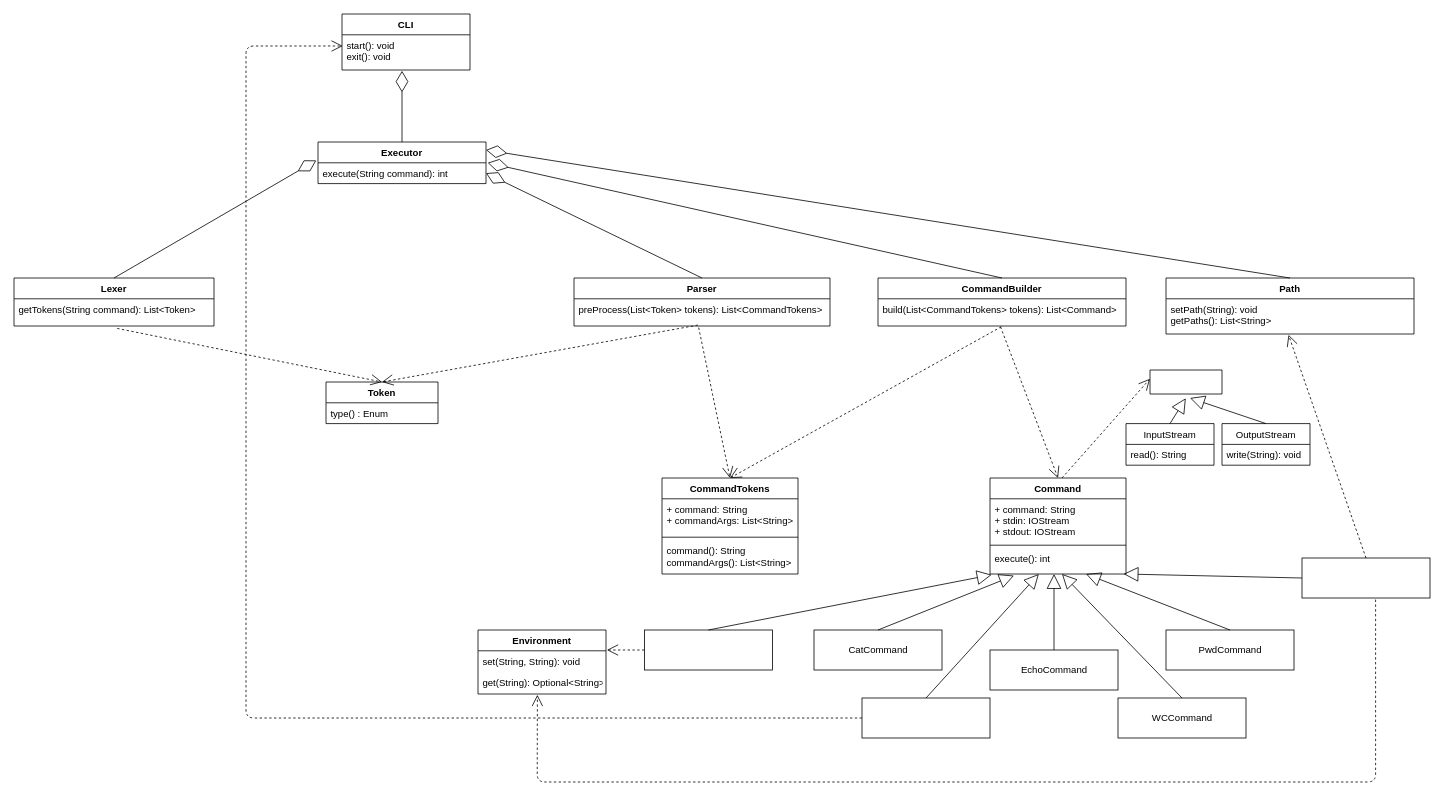
This 1444x807 diagram has some shape labels left out. The centre of each missing label's shape, as x and y in pixels:
"EnvironmentCommand" goes at point 708,649.
"ExitCommand" goes at point 925,717.
"IOStream" goes at point 1185,381.
"OuterCommand" goes at point 1365,577.
